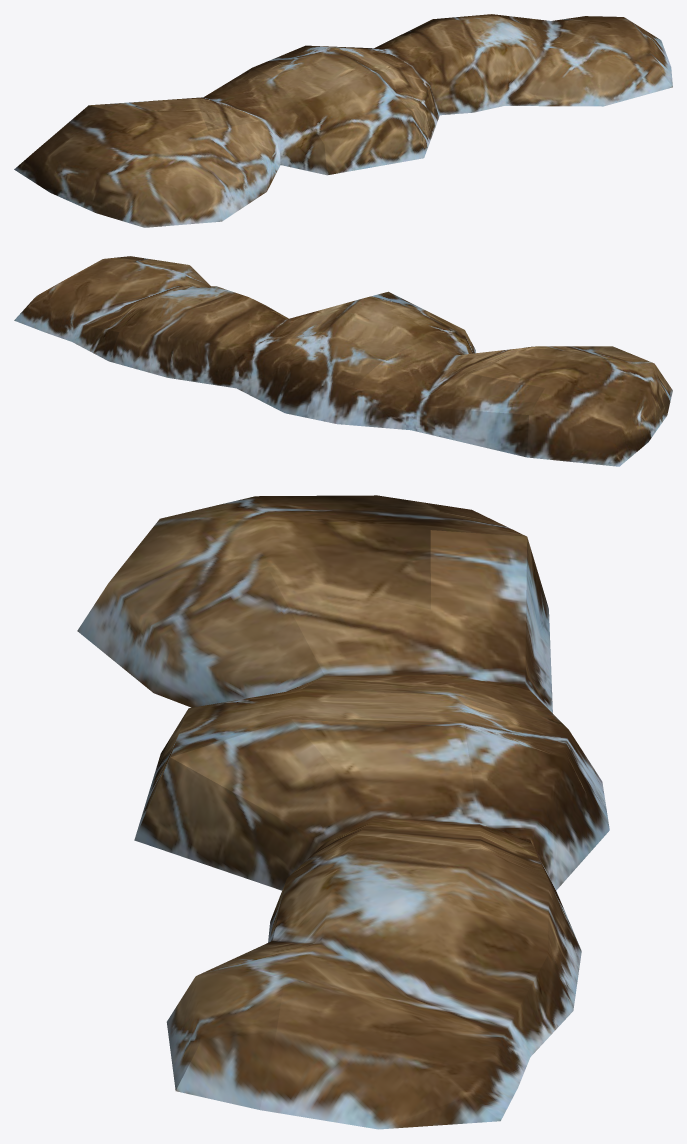
File: Stage_BingYuan_ShiDui02.FBX
3 views of the same model, one above another, from view 1: azimuth 30°, elevation 25°; view 2: azimuth 150°, elevation 25°; view 3: azimuth 270°, elevation 25° (orthographic). The views are drawn at different scales.
Visible parts, largest first — view 1: default002; view 2: default002; view 3: default002.
Part boxes in pixels (x1,y1,x2,y2): default002: (14, 14, 672, 227); default002: (14, 256, 672, 466); default002: (77, 495, 609, 1129).
Bounding box in the file's own units: 677 × 59.44 × 255.
